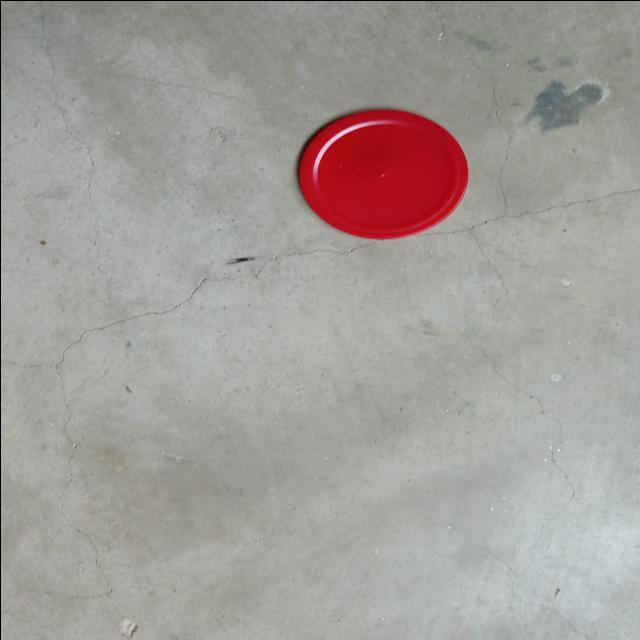chip: (293, 108, 471, 240)
